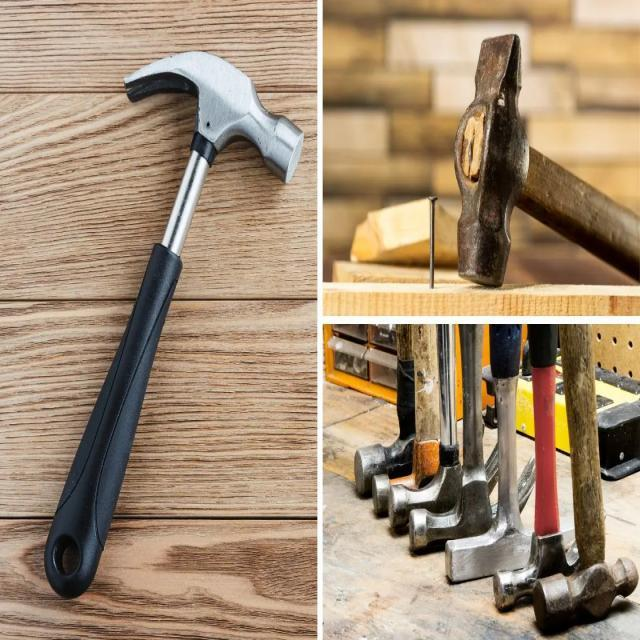hammer: (36, 38, 309, 610), (450, 29, 640, 289), (404, 318, 540, 566), (377, 309, 510, 544), (538, 324, 640, 630), (438, 318, 532, 600), (490, 320, 564, 634), (362, 317, 472, 516), (343, 318, 440, 505)
